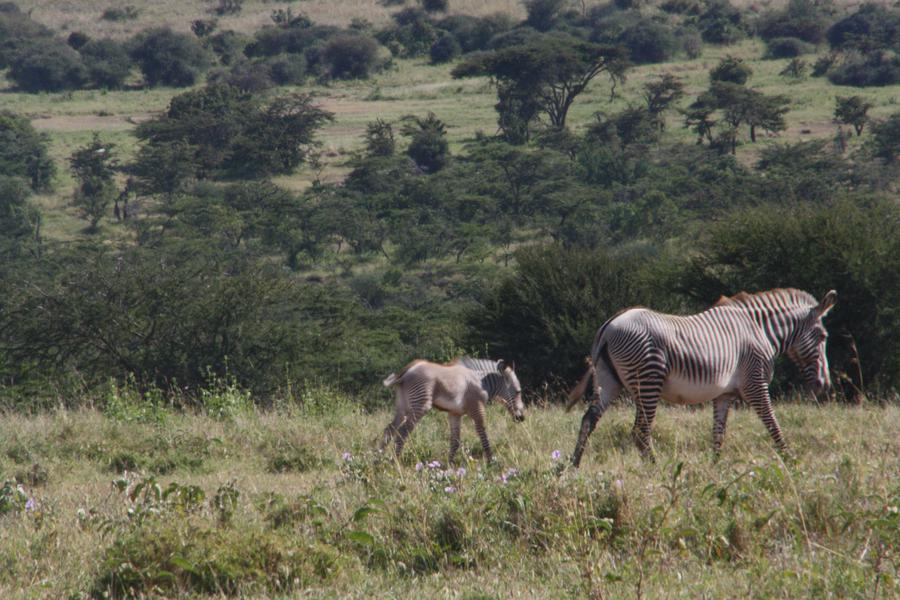zebra_grevys: (597, 310, 765, 384)
